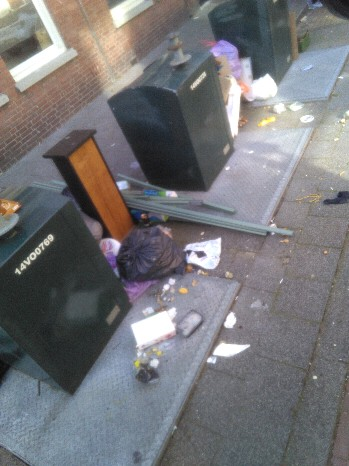Container: (0, 229, 138, 362), (112, 64, 230, 180)
Rest: (131, 192, 302, 251), (62, 139, 161, 239), (201, 54, 280, 110), (111, 230, 196, 278)
